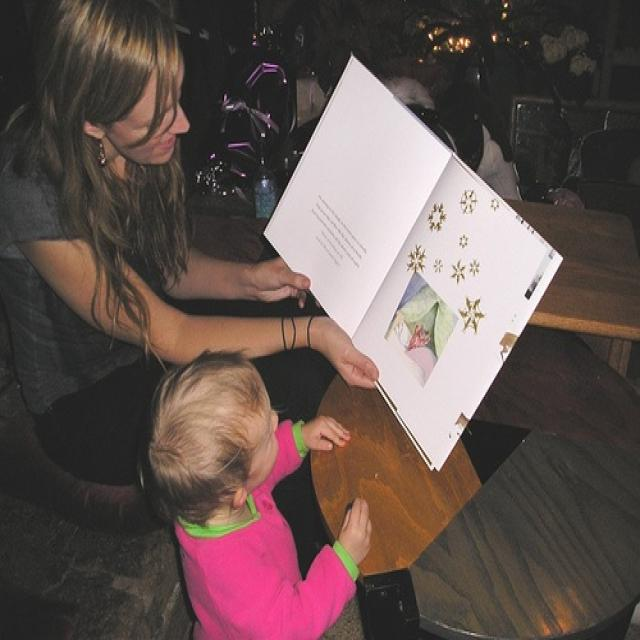bottle: (253, 135, 278, 220)
diningtable: (310, 321, 640, 639), (493, 199, 637, 340)
person: (1, 3, 381, 480), (143, 347, 372, 639)
